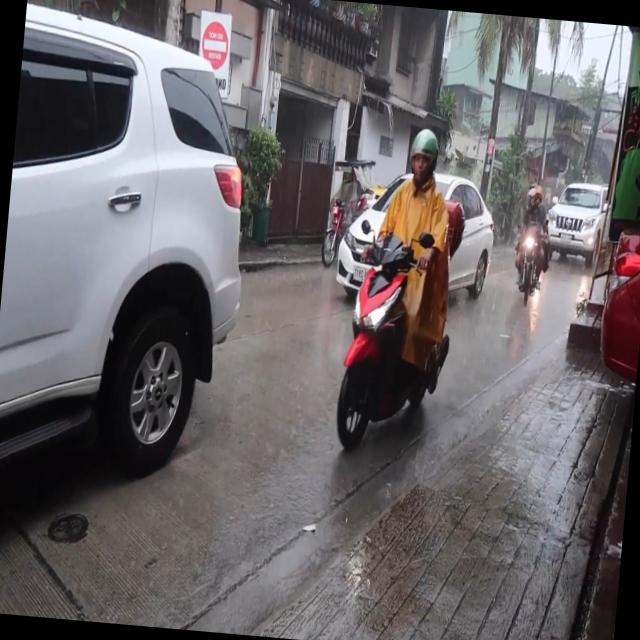half: (407, 125, 442, 190)
